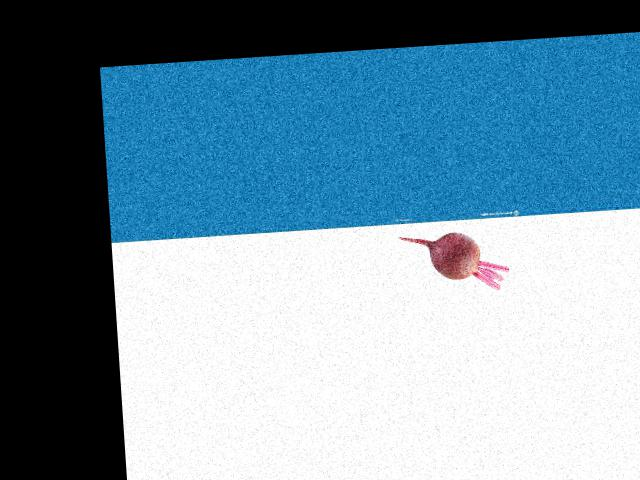beet: (400, 229, 509, 295)
